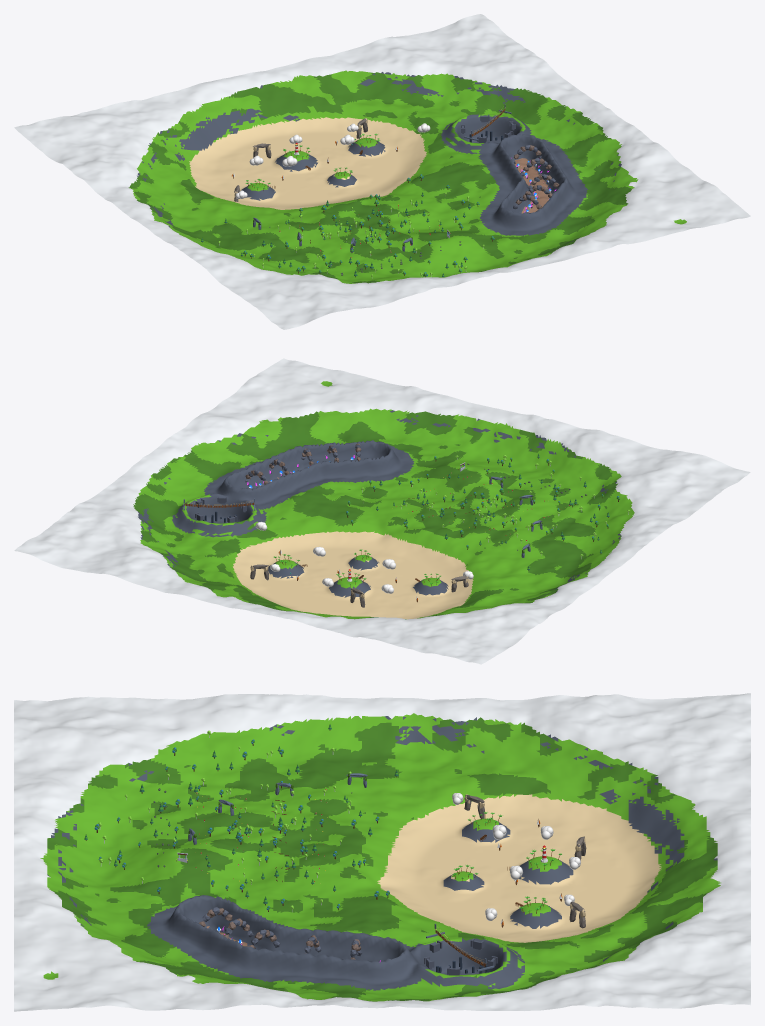
Rendered from skypeck_world.glb.
3 views of the same model, one above another, from view 1: azimuth 30°, elevation 25°; view 2: azimuth 150°, elevation 25°; view 3: azimuth 270°, elevation 25° (orthographic). The views are drawn at different scales.
Parts seen in each view (by area): view 1: Terrain_HighRes, Forest_Trees, Canyon_Rock_Arches, World_Clouds; view 2: Terrain_HighRes, Forest_Trees, World_Clouds, Canyon_Rock_Arches, Sea_Stack_Arch; view 3: Terrain_HighRes, Forest_Trees, Canyon_Rock_Arches, World_Clouds, Sea_Stack_Arch, Chasm_Aqueducts_Basalt, Megalith_Arches.
Part boxes in pixels (bbox=[...]): Terrain_HighRes: bbox=[14, 14, 750, 329]; Forest_Trees: bbox=[201, 174, 494, 278]; Canyon_Rock_Arches: bbox=[512, 145, 559, 209]; World_Clouds: bbox=[235, 123, 430, 198]; Terrain_HighRes: bbox=[14, 358, 750, 664]; Forest_Trees: bbox=[346, 453, 630, 570]; World_Clouds: bbox=[255, 521, 473, 593]; Canyon_Rock_Arches: bbox=[245, 443, 361, 484]; Sea_Stack_Arch: bbox=[250, 564, 469, 607]; Terrain_HighRes: bbox=[14, 693, 750, 1011]; Forest_Trees: bbox=[84, 724, 398, 911]; Canyon_Rock_Arches: bbox=[199, 907, 362, 959]; World_Clouds: bbox=[452, 793, 580, 920]; Sea_Stack_Arch: bbox=[464, 794, 586, 928]; Chasm_Aqueducts_Basalt: bbox=[424, 938, 497, 975]; Megalith_Arches: bbox=[188, 773, 367, 844].
Size of the model in its own units: 1320 by 96.5 by 1320.
